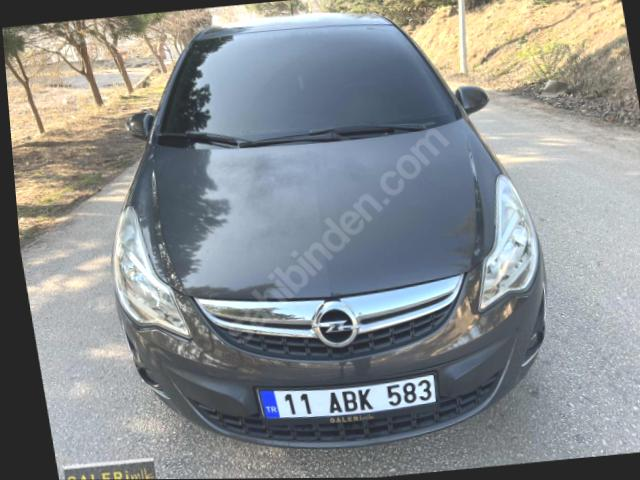plaka: (259, 374, 436, 418)
